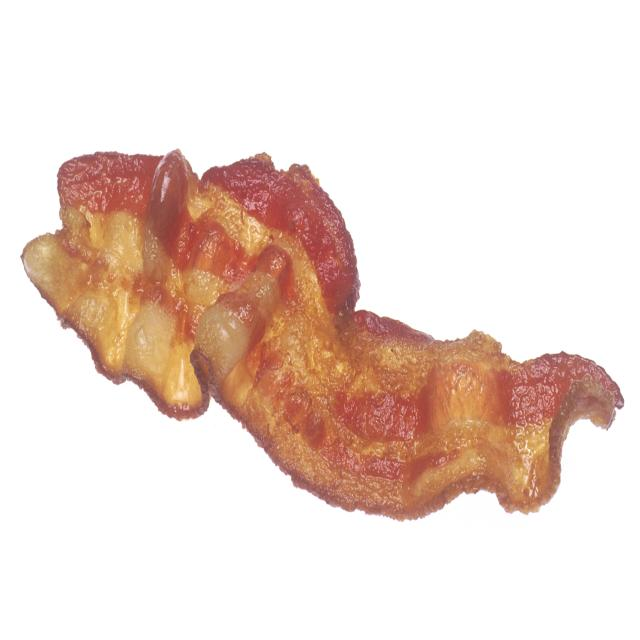bacon: (11, 120, 624, 531)
